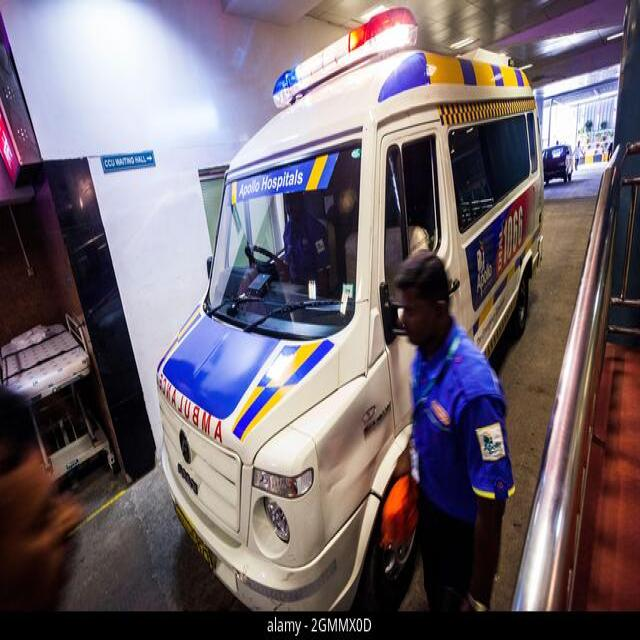emergency: (156, 7, 542, 610)
